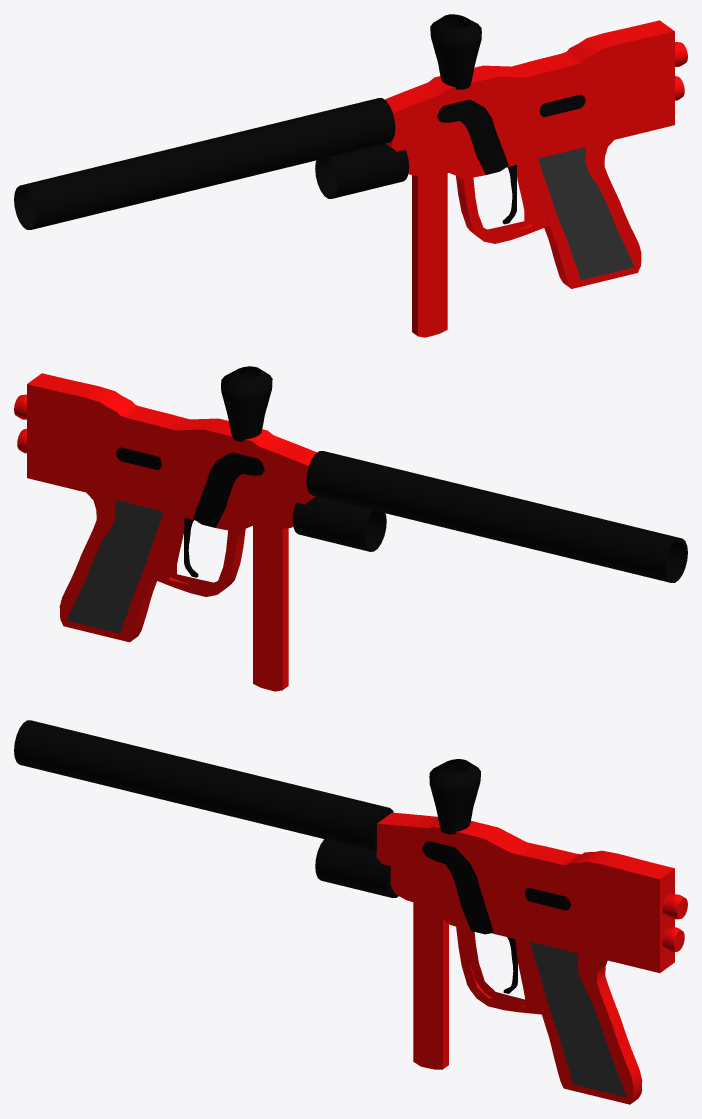
File: paintball_gun.fbx
3 views of the same model, one above another, from view 1: azimuth 30°, elevation 25°; view 2: azimuth 150°, elevation 25°; view 3: azimuth 330°, elevation 25° (orthographic).
Parts seen in each view (by area): view 1: Box005; view 2: Box005; view 3: Box005.
Boxes of the visible parts, x1=… form: Box005: x1=14, y1=14, x2=687, y2=337; Box005: x1=14, y1=366, x2=687, y2=691; Box005: x1=14, y1=720, x2=687, y2=1104.
Bounding box in the file's own units: 106 × 47.5 × 7.83.
